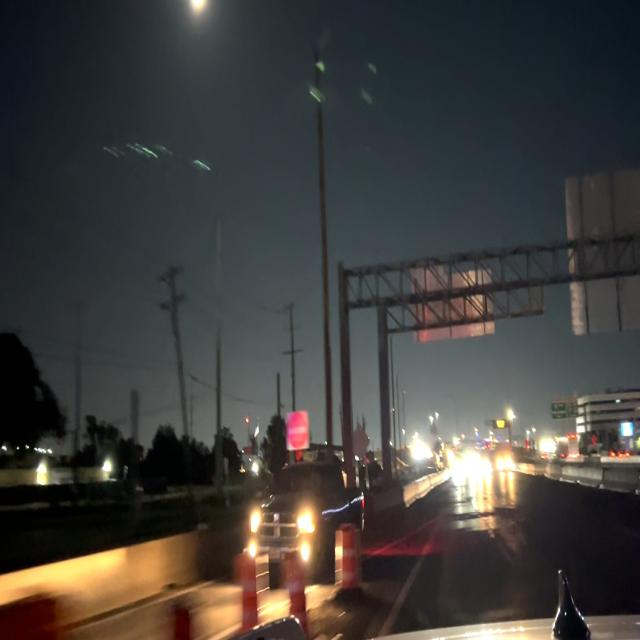back-of-sign: (568, 175, 640, 336), (411, 263, 495, 344)
